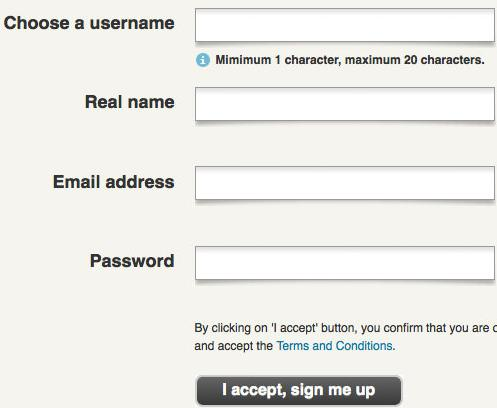button: (195, 374, 403, 406)
field: (194, 244, 495, 282), (193, 86, 497, 123), (193, 165, 495, 202), (193, 8, 496, 43)
field_with_label: (5, 5, 497, 44), (53, 163, 497, 205), (91, 241, 497, 285), (86, 84, 497, 125)
